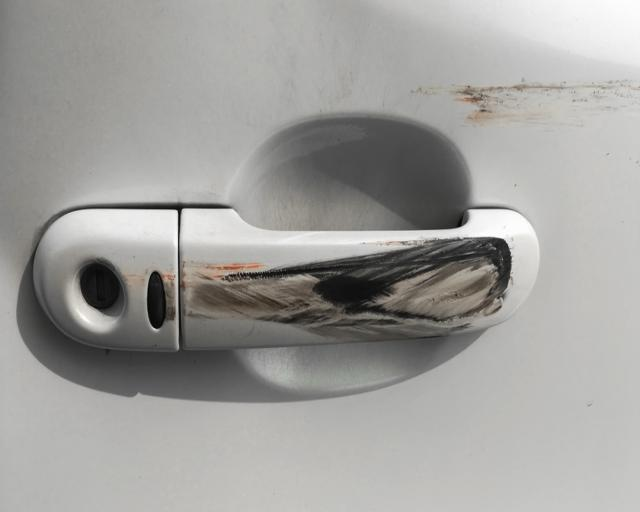scratch: (162, 232, 515, 341), (447, 70, 640, 130)
